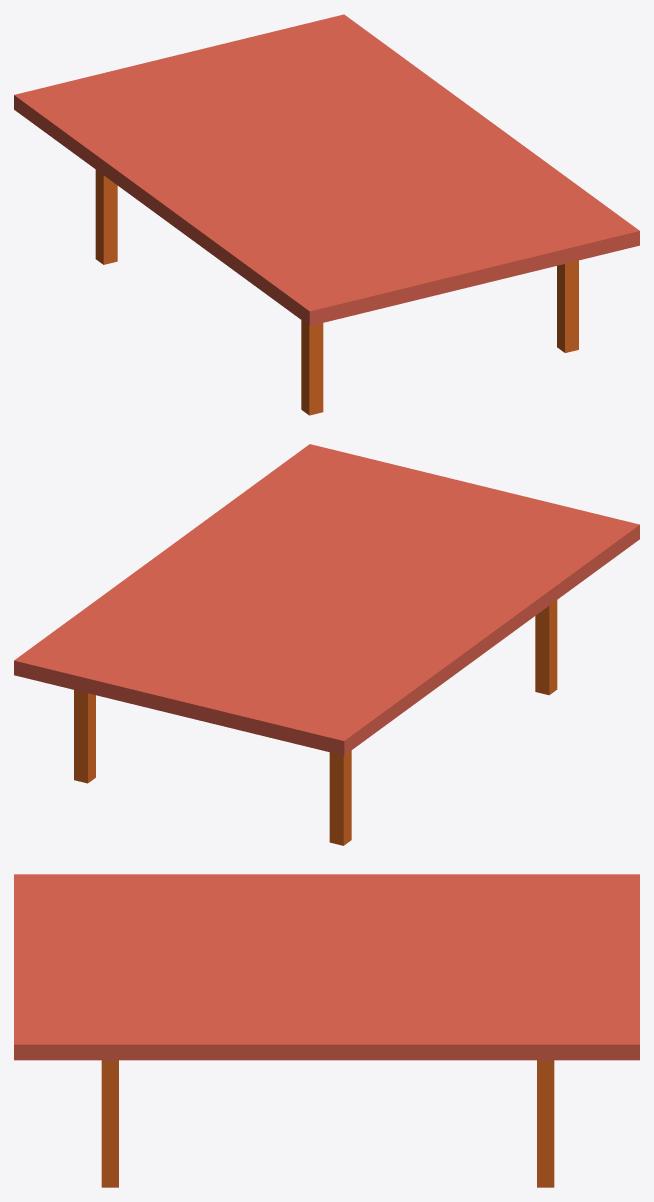
Rendered from meja meeting.fbx.
3 renders of one model, top to bottom at view 1: azimuth 30°, elevation 25°; view 2: azimuth 150°, elevation 25°; view 3: azimuth 270°, elevation 25°, orthographic. The views are drawn at different scales.
Parts seen in each view (by area): view 1: Cube.004, Cube.001, Cube.003, Cube; view 2: Cube.004, Cube.003, Cube.001, Cube.002; view 3: Cube.004, Cube, Cube.002.
Boxes of the visible parts, bbox=[...] form: Cube.004: bbox=[14, 14, 639, 325]; Cube.001: bbox=[301, 320, 323, 415]; Cube.003: bbox=[95, 170, 117, 264]; Cube: bbox=[557, 260, 578, 352]; Cube.004: bbox=[14, 444, 639, 755]; Cube.003: bbox=[329, 750, 351, 845]; Cube.001: bbox=[535, 600, 557, 695]; Cube.002: bbox=[74, 690, 95, 783]; Cube.004: bbox=[14, 874, 639, 1060]; Cube: bbox=[101, 1060, 118, 1187]; Cube.002: bbox=[537, 1060, 554, 1187].
Bounding box in the file's own units: 4712 × 1971 × 7313.
